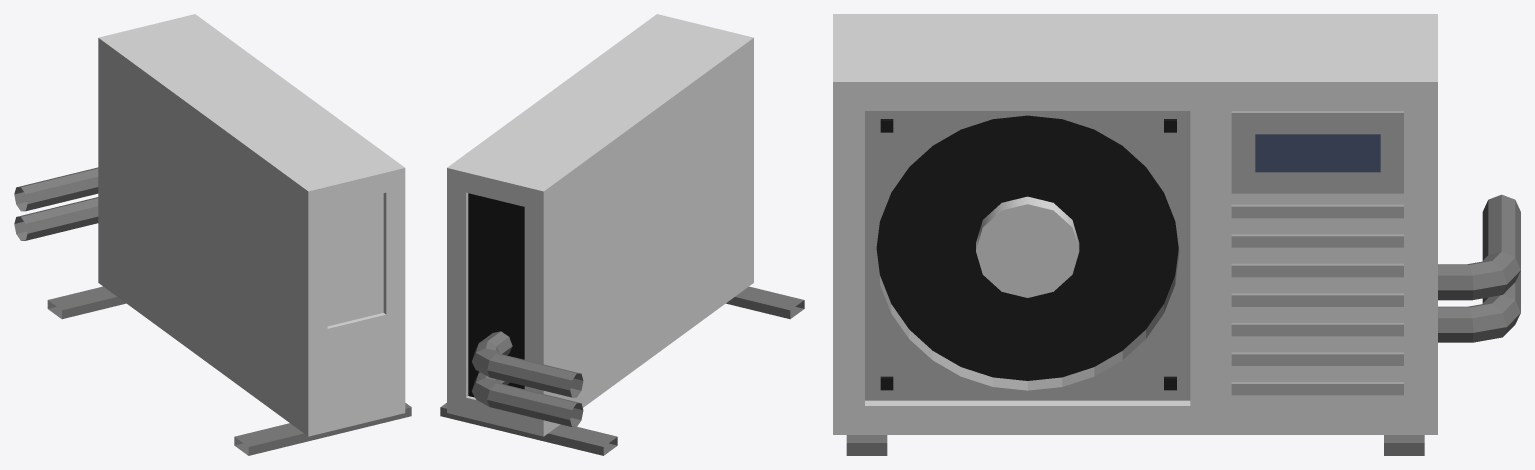
Rendered from SM_airCondition_01.gltf.
3 views of the same model, side by side, from view 1: azimuth 30°, elevation 25°; view 2: azimuth 150°, elevation 25°; view 3: azimuth 270°, elevation 25° (orthographic). The views are drawn at different scales.
Parts seen in each view (by area): view 1: SM_airCondition_01; view 2: SM_airCondition_01; view 3: SM_airCondition_01.
Part boxes in pixels (x1,y1,x2,y2): SM_airCondition_01: (14,14,411,455); SM_airCondition_01: (440,14,804,455); SM_airCondition_01: (833,14,1520,455).
Bounding box in the file's own units: 0.4247 × 0.6329 × 1.08.
Materials: 1 (1 with a texture image).
